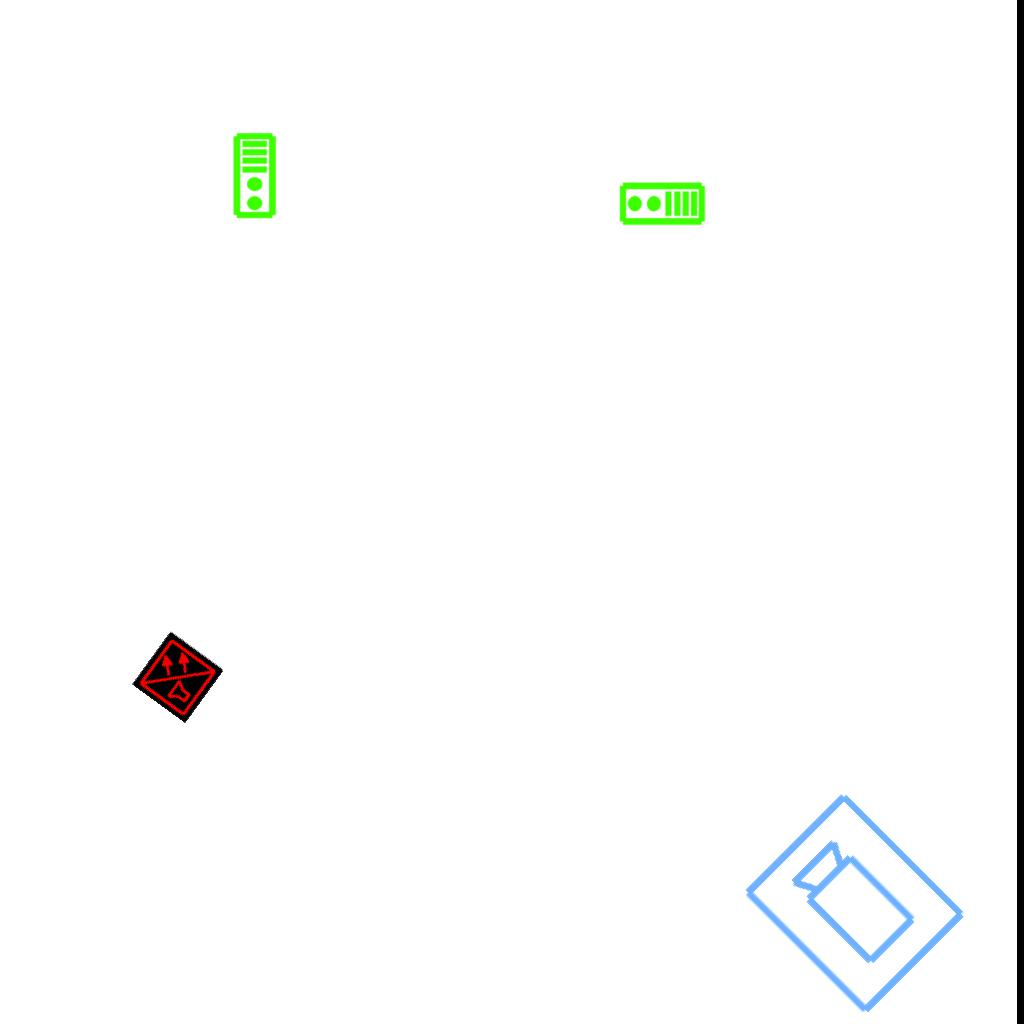Gegensprechanlage_mit_Video: (618, 181, 706, 228), (232, 132, 279, 220)
KFO_Kamera_mit_Festobjektiv: (737, 784, 975, 1022)
OKW_Multisensormelder_(Kombination_optischer_Rauch-Kahlenmonoxid_Waerme-Melder): (131, 630, 225, 724)
